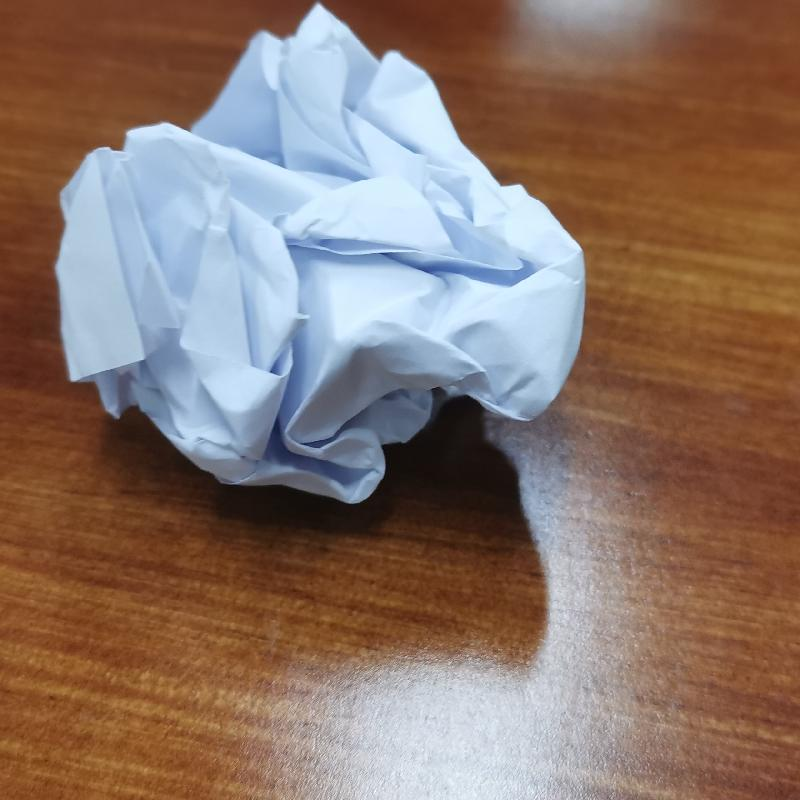spitball: (52, 0, 591, 511)
